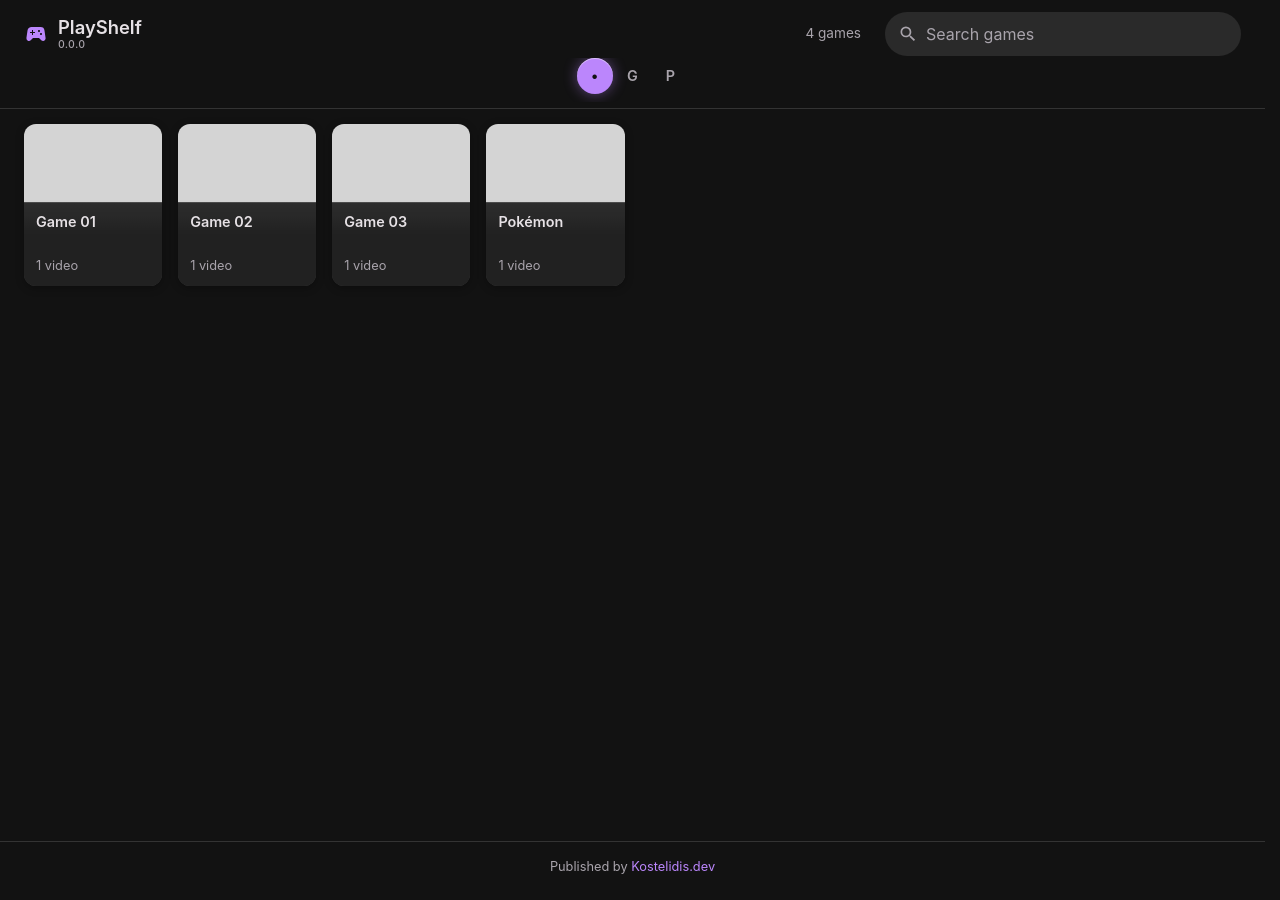
Test case: App: home view › filters by search, accent-insensitively, and writes it to the URL
The width and height of the screenshot is (1280, 900).
Expected: the text "Pokémon" is shown, [498,213,563,230]
Type "pokemon" into the search field labelled "Search games" at (1077, 34), box [926,13,1228,55]
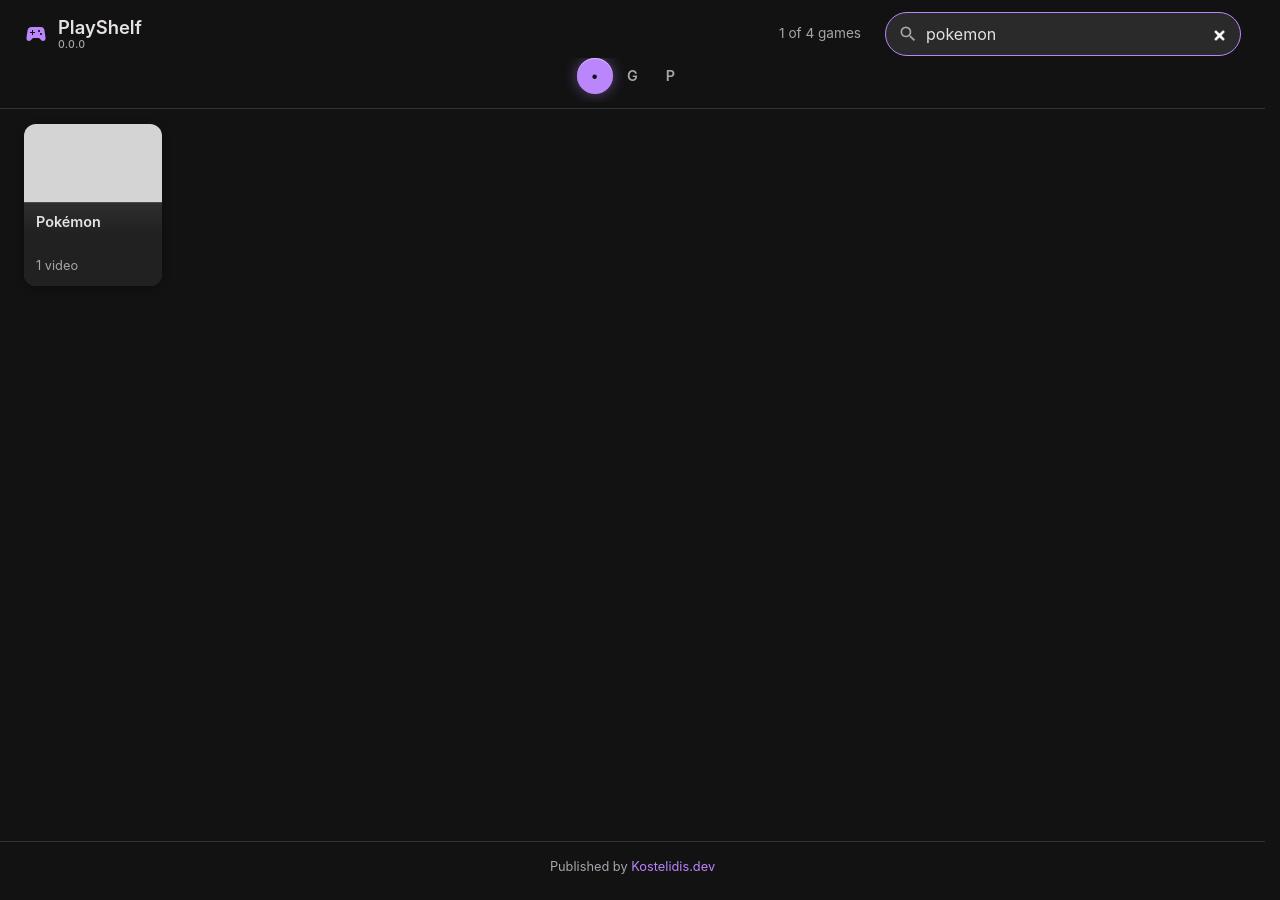
Result: the message reads "1 of 4 games" at [779,26,861,42]
